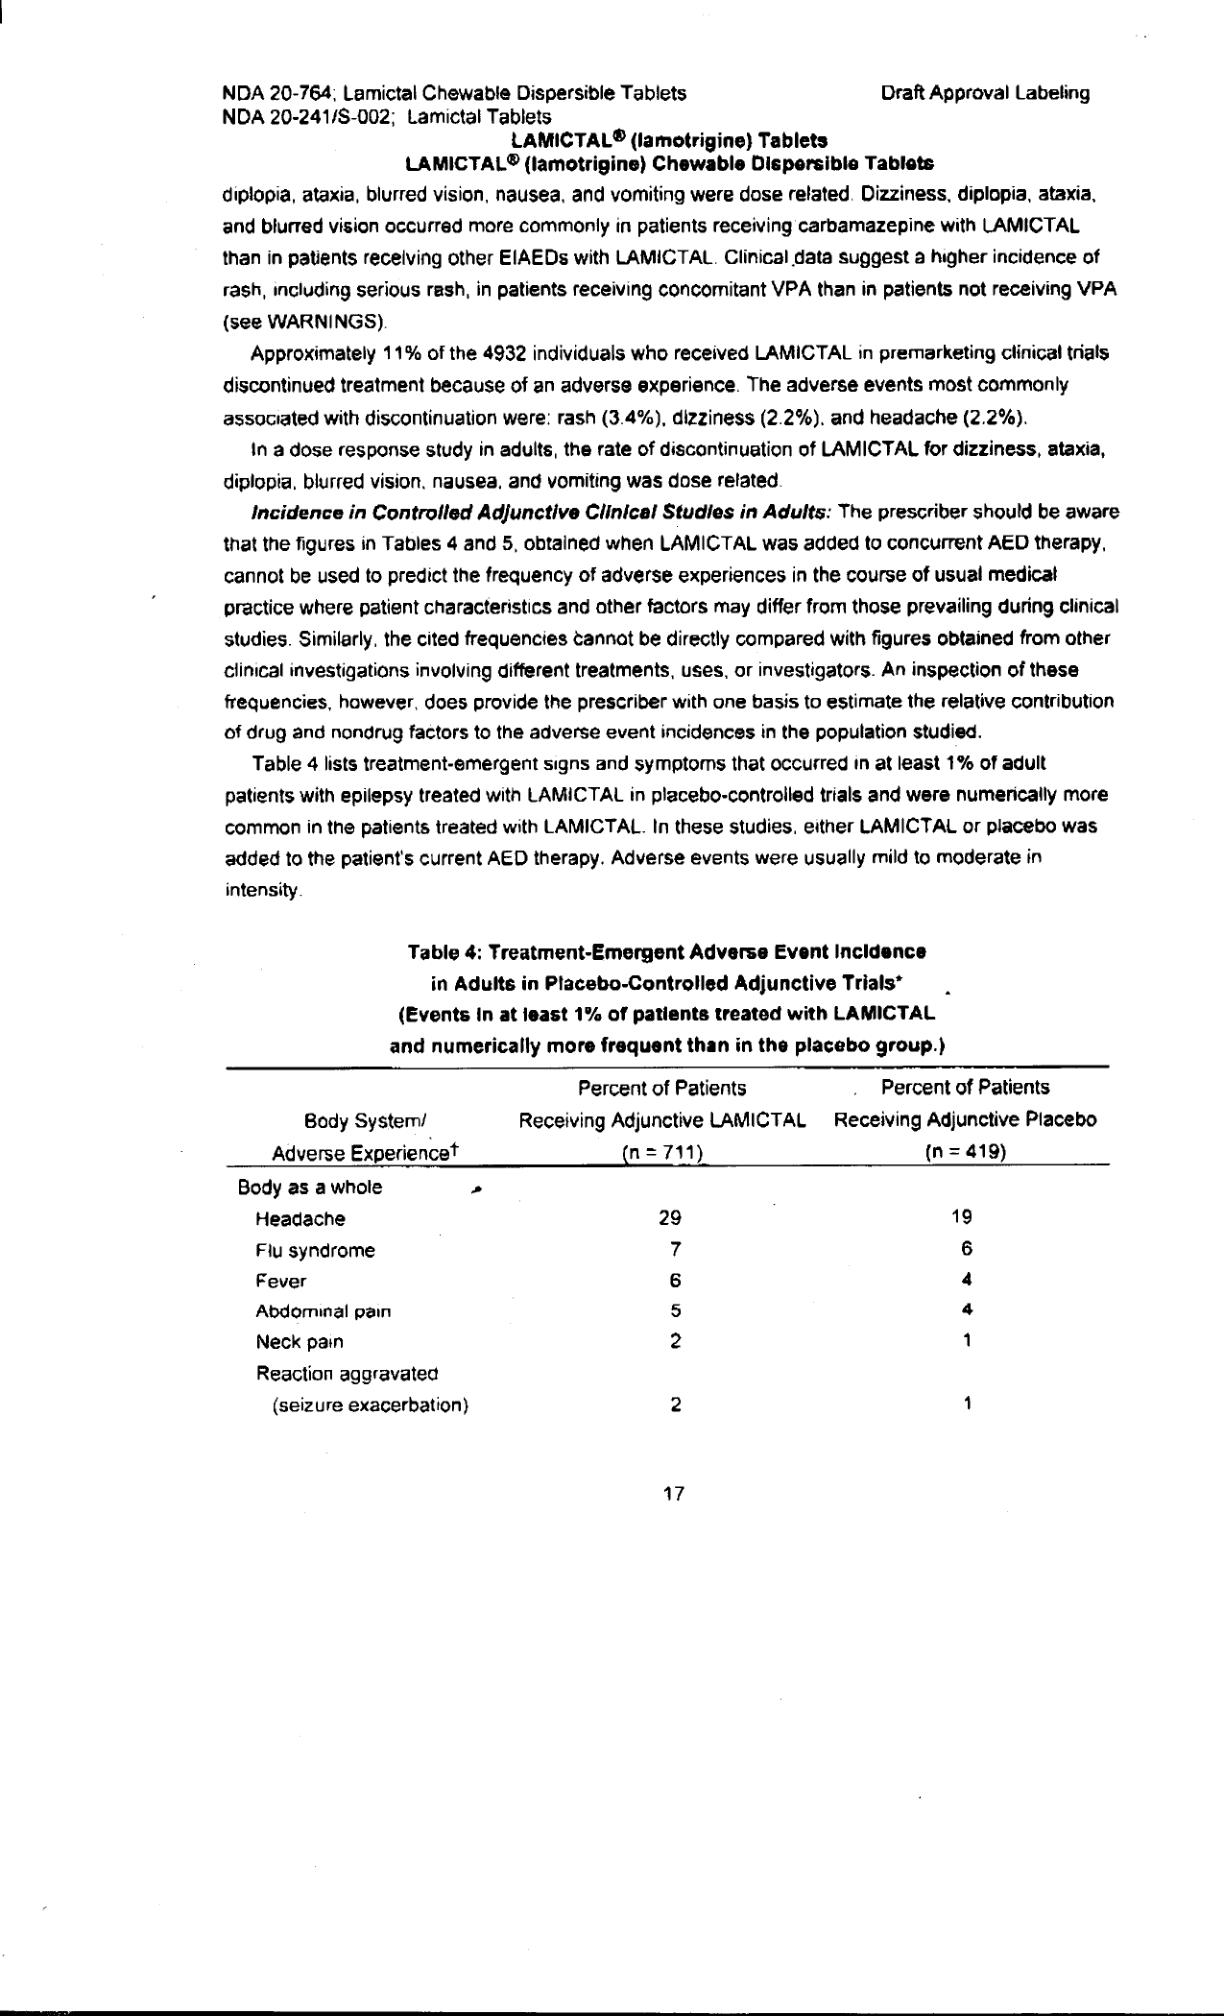partial_lined: (223, 1064, 1112, 1418)
